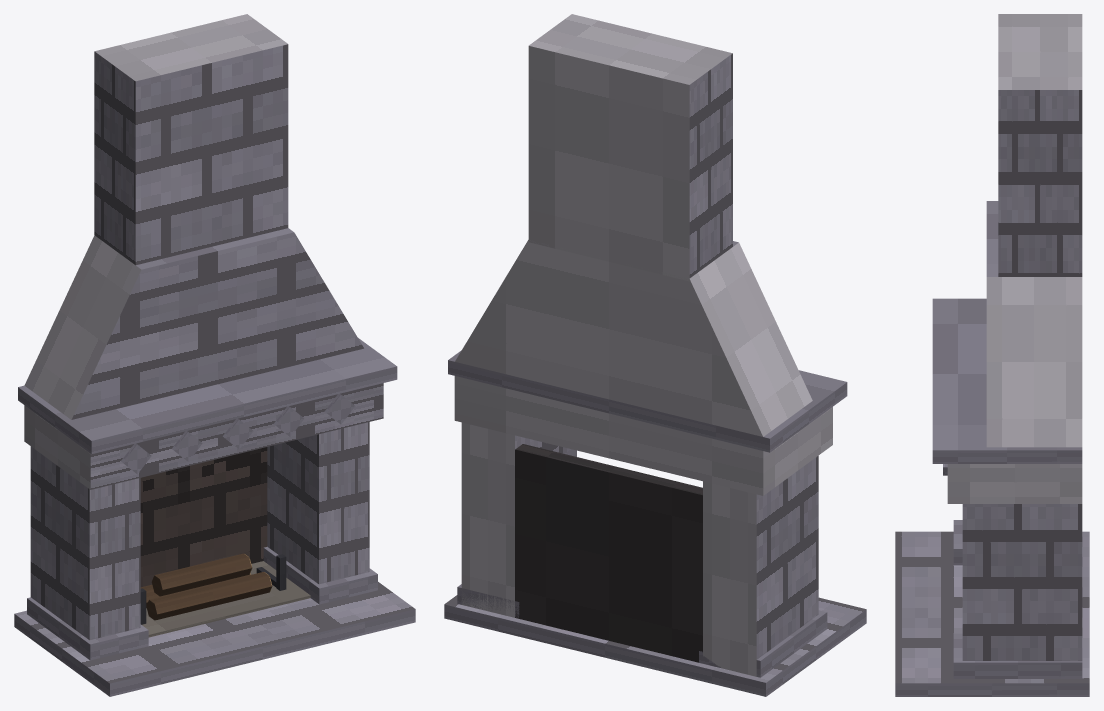
The model's file is stone-fireplace.glb.
The picture shows the model from 3 angles, left to right: view 1: azimuth 30°, elevation 25°; view 2: azimuth 150°, elevation 25°; view 3: azimuth 270°, elevation 25°; orthographic projection. The views are drawn at different scales.
Visible parts, largest first — view 1: stone-fireplace.001; view 2: stone-fireplace.001; view 3: stone-fireplace.001.
Part boxes in pixels (<box>): stone-fireplace.001: <box>14,14,415,696</box>; stone-fireplace.001: <box>444,14,866,696</box>; stone-fireplace.001: <box>895,14,1089,696</box>.
Size of the model in its own units: 2.4 by 4.2 by 1.3.
1 material, 1 textured.
